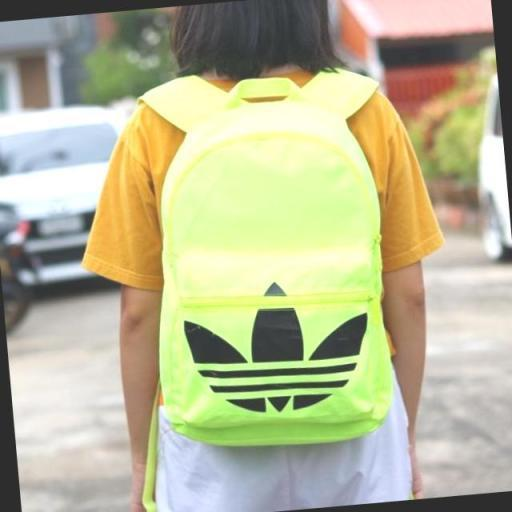bag: (138, 43, 404, 453)
